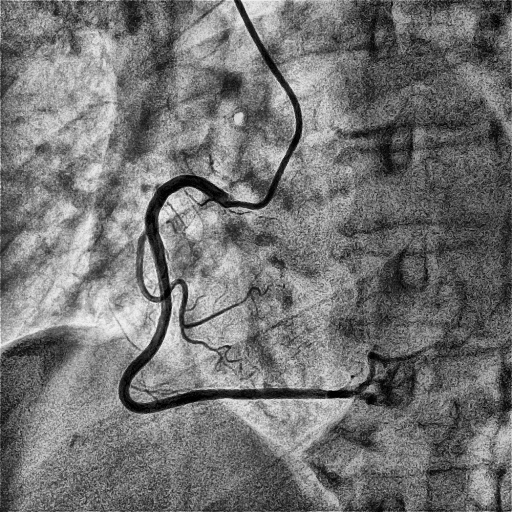pborca: (353, 316, 478, 396)
rca: (119, 175, 353, 413)
